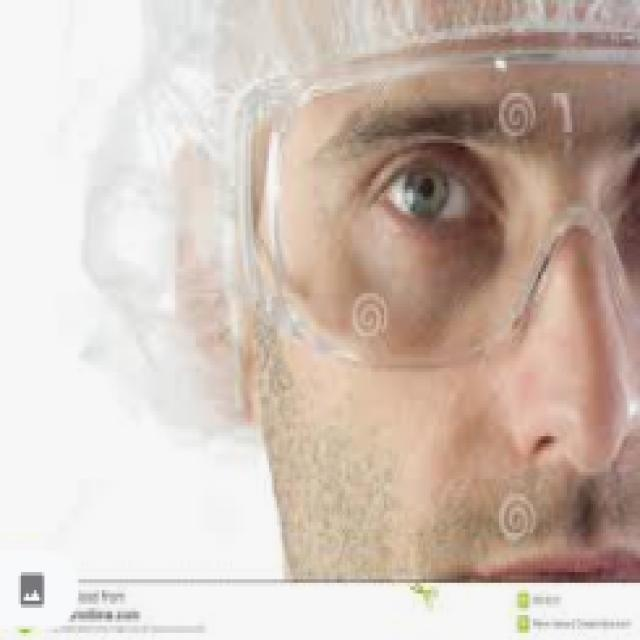glasses: (227, 71, 640, 372)
